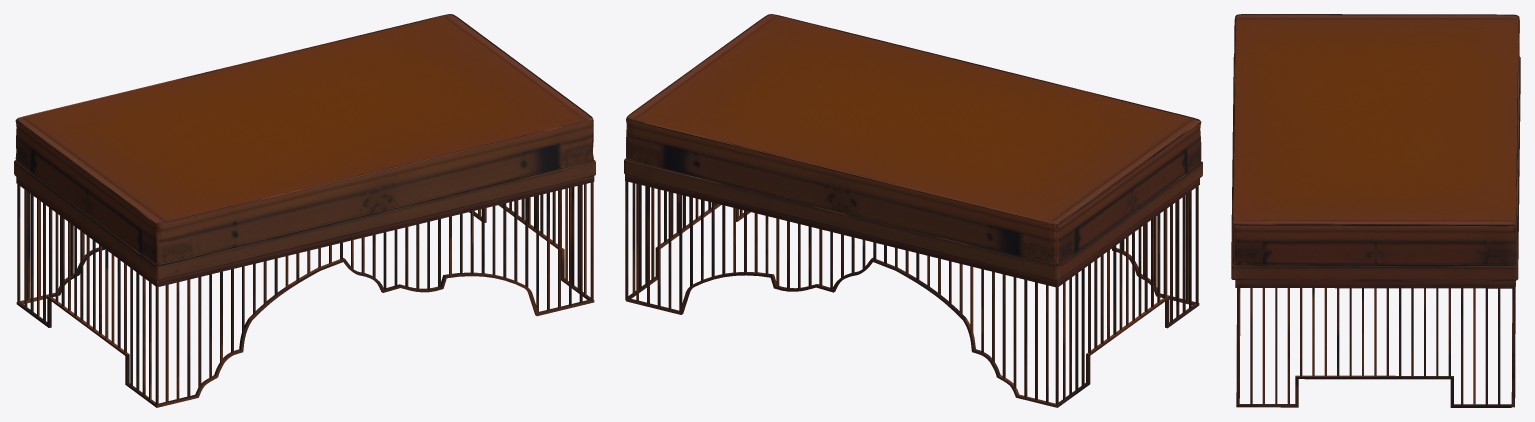
The model's file is edited_mesh.glb.
3 renders of one model, left to right at view 1: azimuth 30°, elevation 25°; view 2: azimuth 150°, elevation 25°; view 3: azimuth 270°, elevation 25°, orthographic.
Visible parts, largest first — view 1: solid_001_wire; view 2: solid_001_wire; view 3: solid_001_wire.
Part boxes in pixels (<box>): solid_001_wire: <box>14,14,595,407</box>; solid_001_wire: <box>624,14,1202,407</box>; solid_001_wire: <box>1231,14,1520,407</box>.
Size of the model in its own units: 2 by 0.8071 by 1.16.
1 material, 1 textured.
